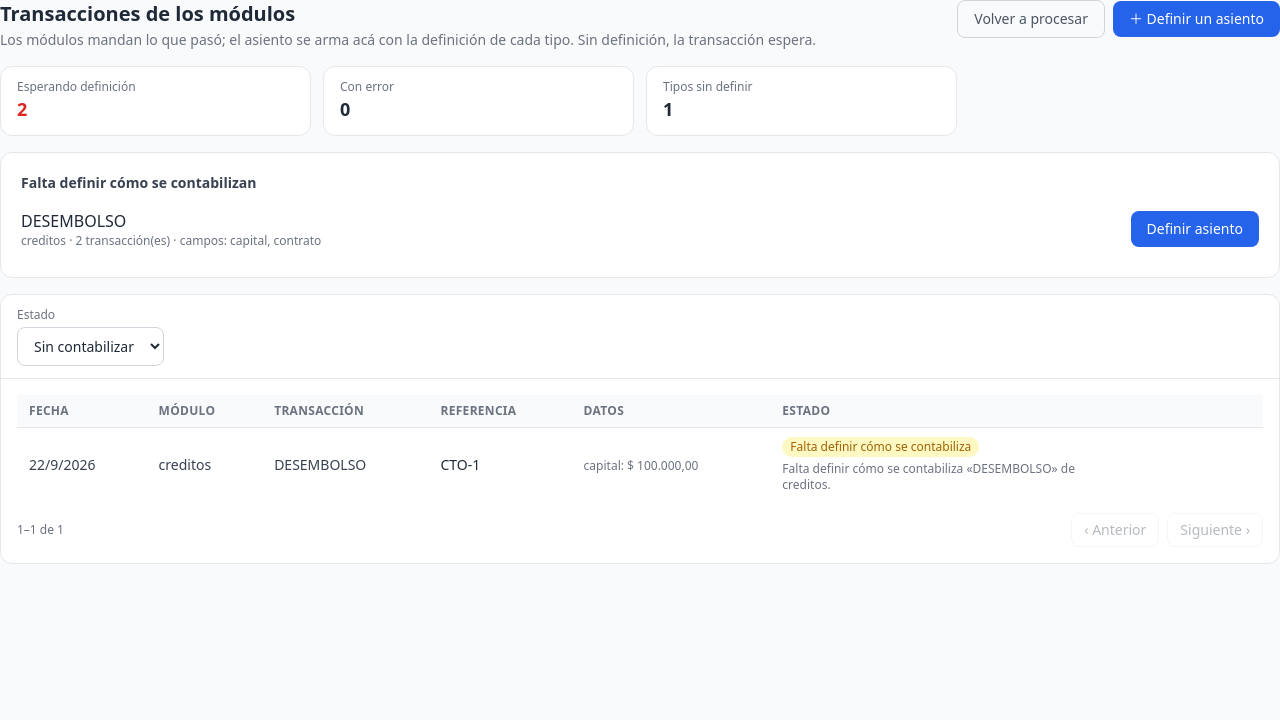
Test: Transacciones de los módulos › avisa si la definición no se puede guardar
The width and height of the screenshot is (1280, 720).
Click the button "Definir asiento".
click(1195, 229)  # box [1130,211,1259,247]
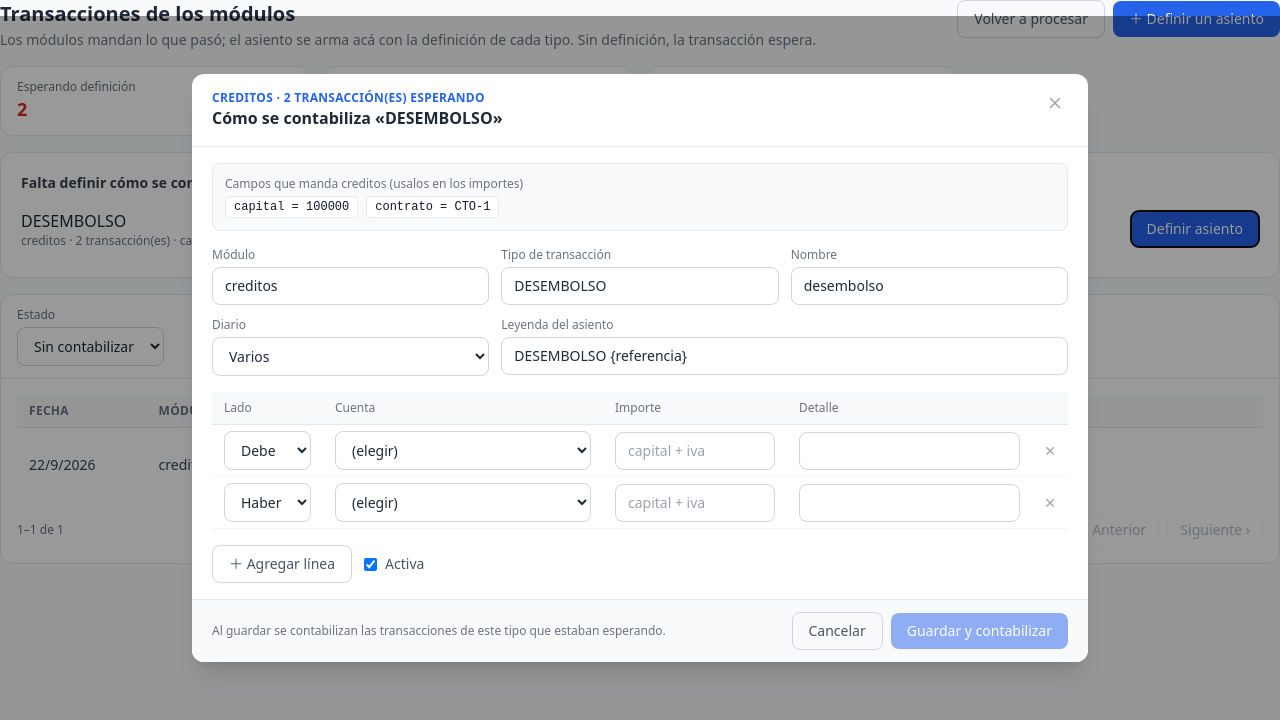
Select "1.1.04 · Préstamos otorgados" in the dropdown named "Cuenta 1" at [463, 450], box [335,431,591,470]
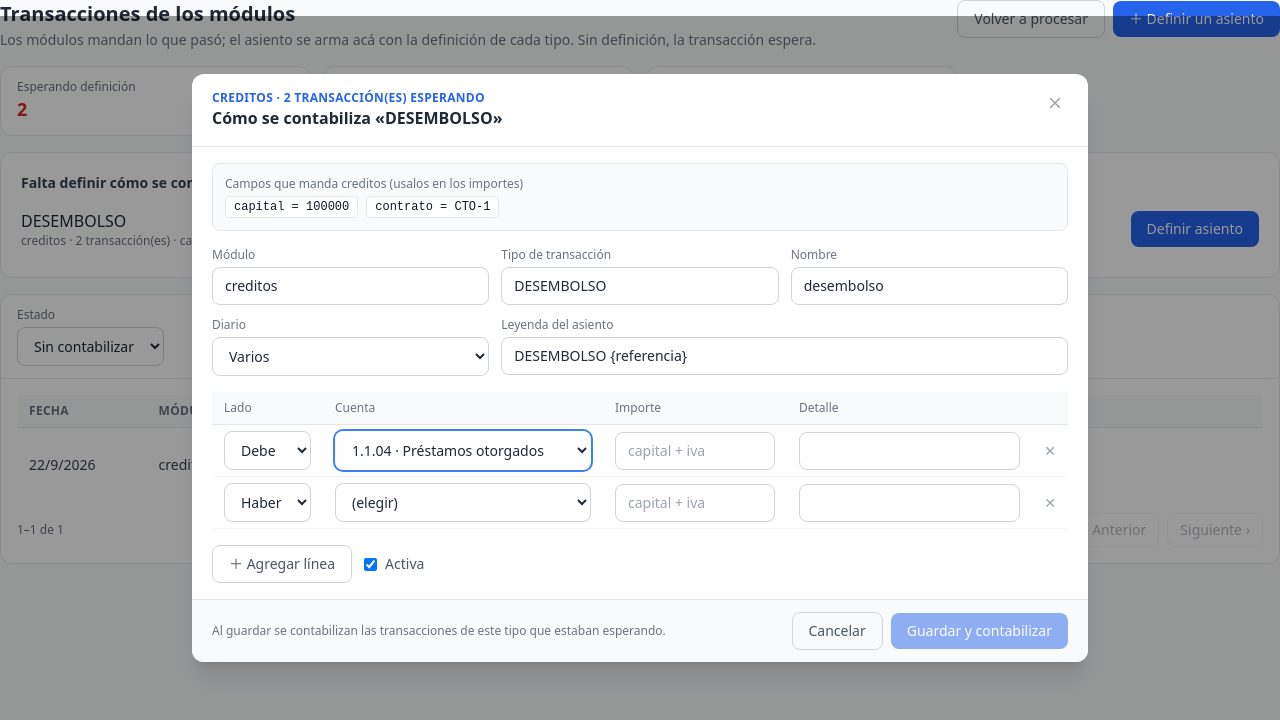
Type "capital" into the field named "Importe 1".
click(695, 450); type("capital")  # box [615,432,775,470]
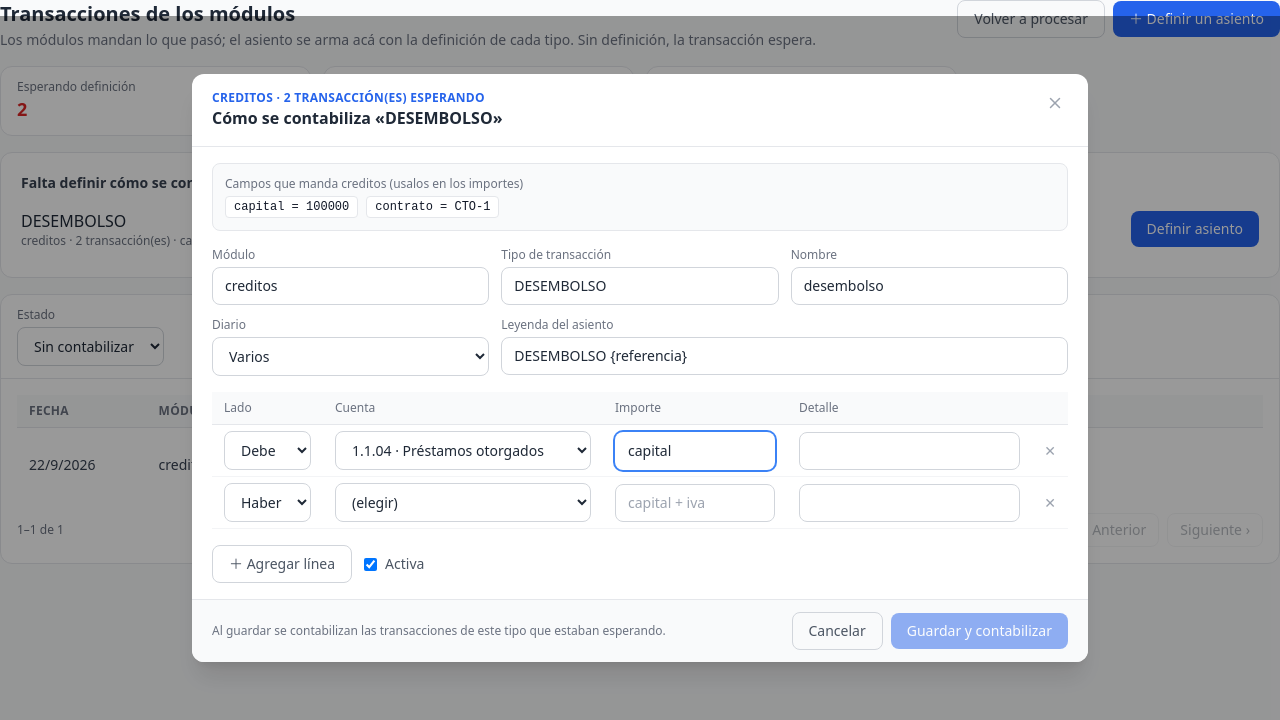
Select "1.1.02 · Bancos" in the dropdown named "Cuenta 2" at [463, 502], box [335,483,591,522]
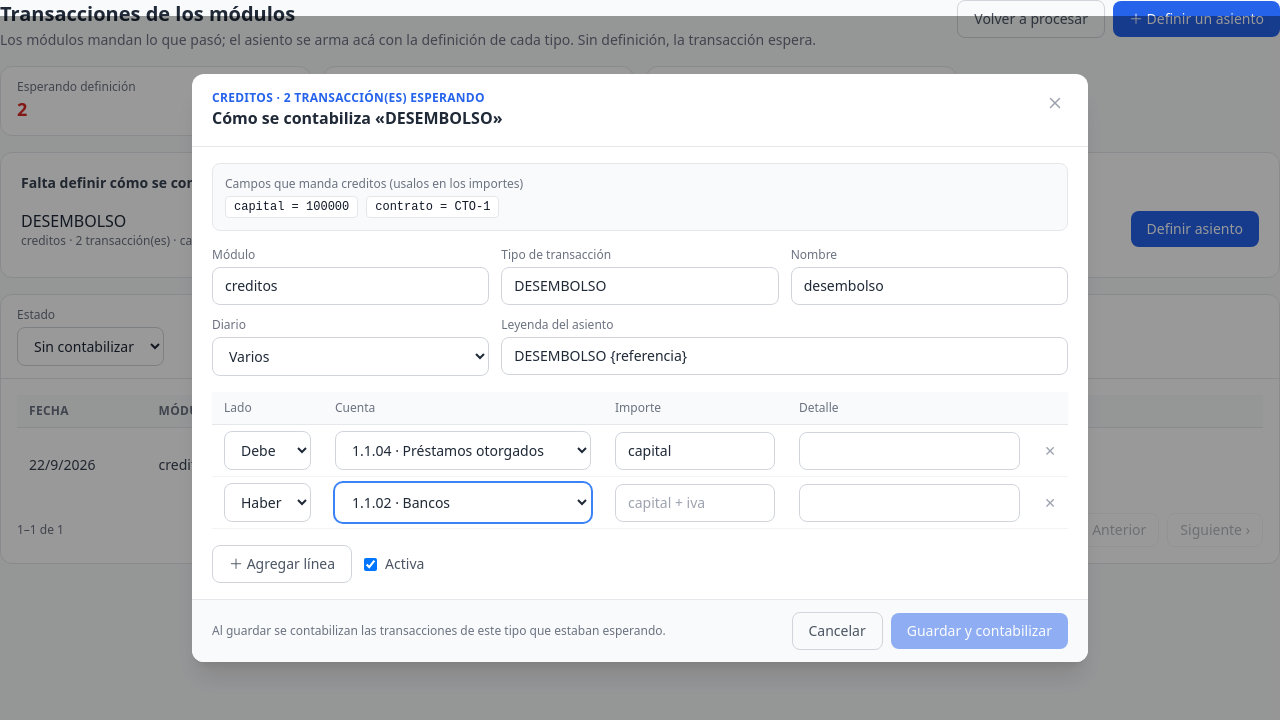
Type "capital" into the field named "Importe 2".
click(695, 502); type("capital")  # box [615,484,775,522]
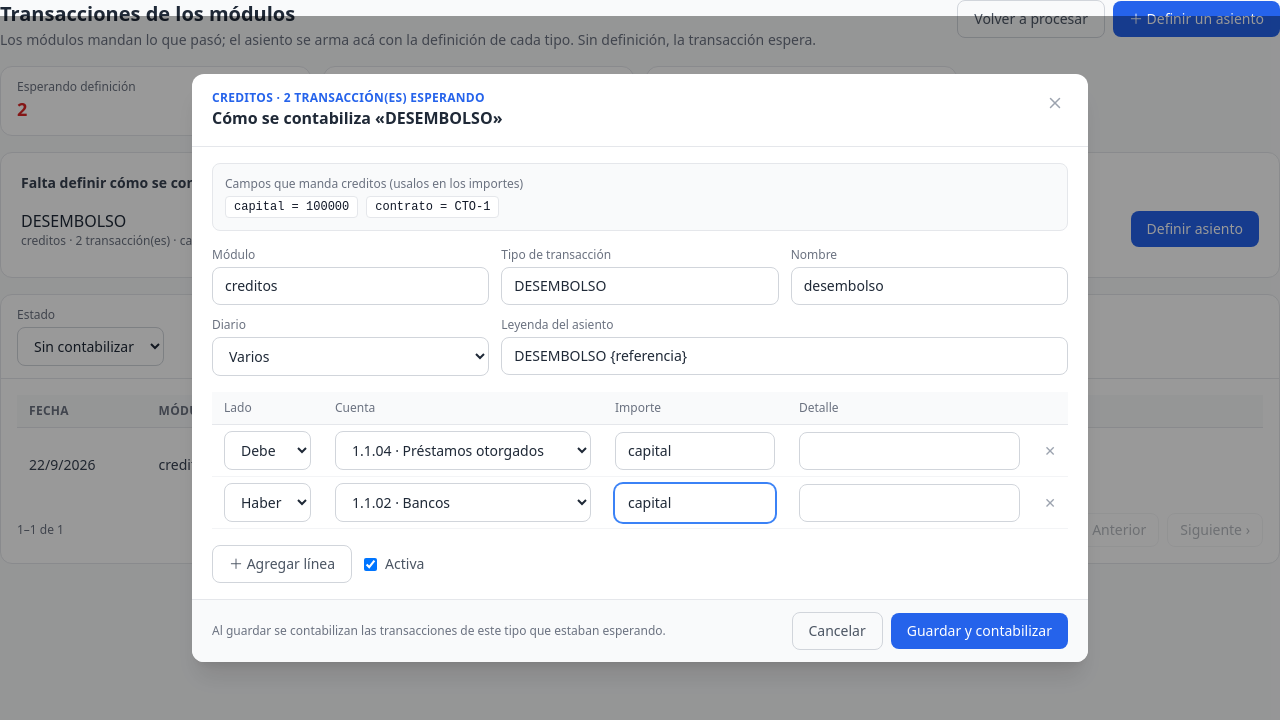
Click the button "Guardar y contabilizar".
click(979, 631)  # box [891,613,1068,649]
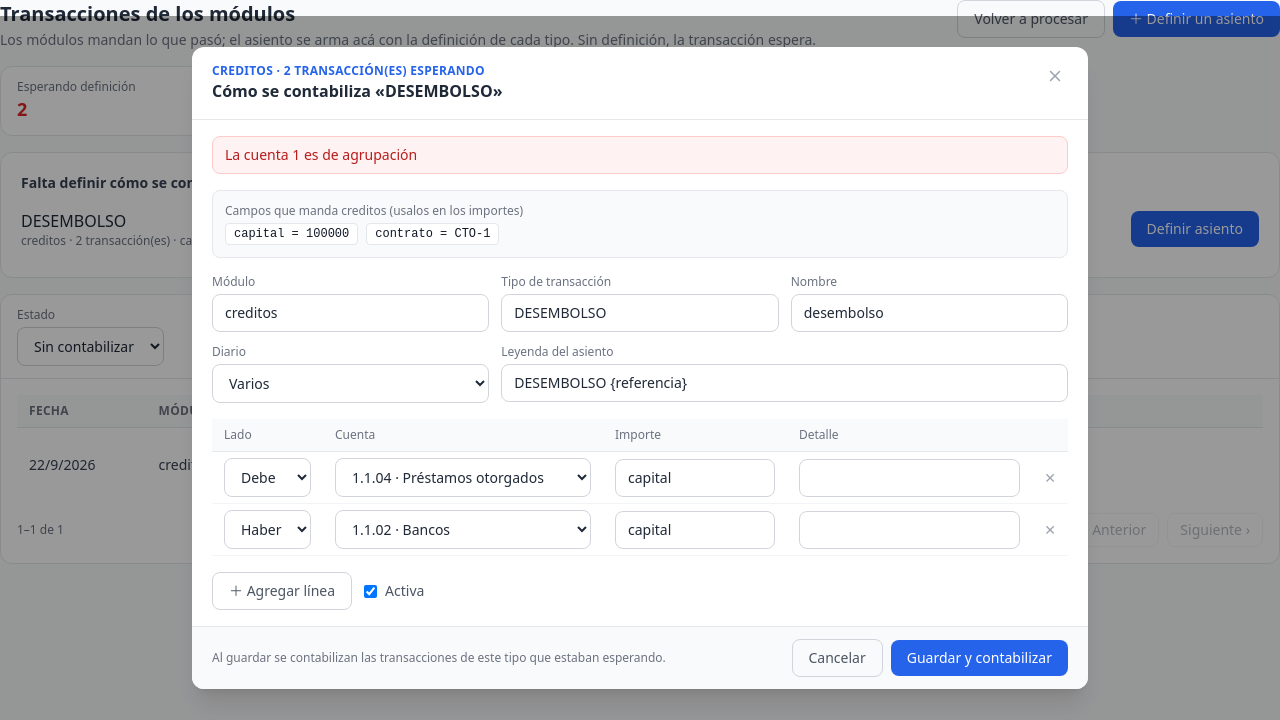
Expected: the text "La cuenta 1 es de agrupación" is shown, [212,136,1068,174]
